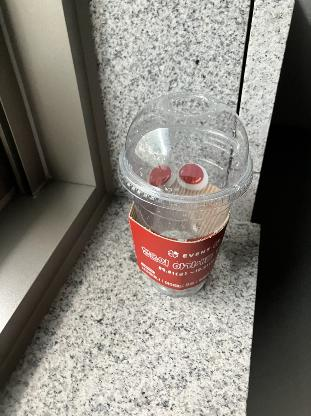Plastic Cup: (115, 90, 257, 298), (114, 90, 258, 212)
